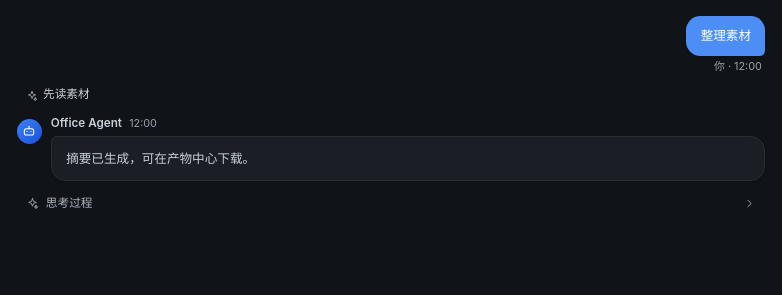
it: ChatStream › 旁白收进思考过程：对话里只剩一条正式回复，不再每条都挂「Office Agent」抬头
Expected: the text "我先把素材读出来，再看它适不适合套周报。" is not shown
Expected: the text "Office Agent" is shown once, [51,115,122,132]
Step 1. Click the button "思考过程" → [69, 203], box [17,192,765,216]
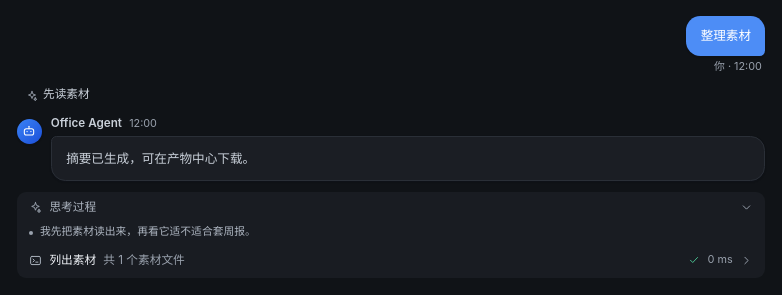
Expected: the text "我先把素材读出来，再看它适不适合套周报。" is shown, [40,223,256,241]
